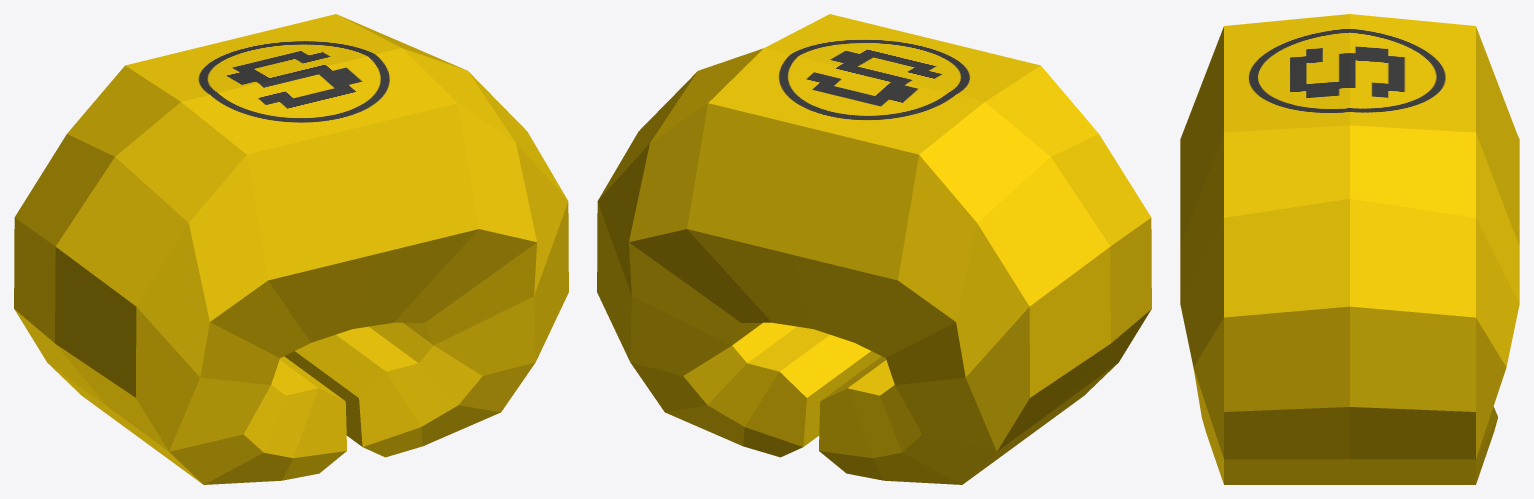
Rendered from Coin.fbx.
3 renders of one model, left to right at view 1: azimuth 30°, elevation 25°; view 2: azimuth 150°, elevation 25°; view 3: azimuth 270°, elevation 25°, orthographic. The views are drawn at different scales.
Parts seen in each view (by area): view 1: Coin; view 2: Coin; view 3: Coin.
Part boxes in pixels (left/top/right/bottom): Coin: left=14, top=14, right=568, bottom=484; Coin: left=597, top=14, right=1151, bottom=484; Coin: left=1180, top=14, right=1519, bottom=484.
Bounding box in the file's own units: 448 × 313 × 269.
1 material, 1 textured.
